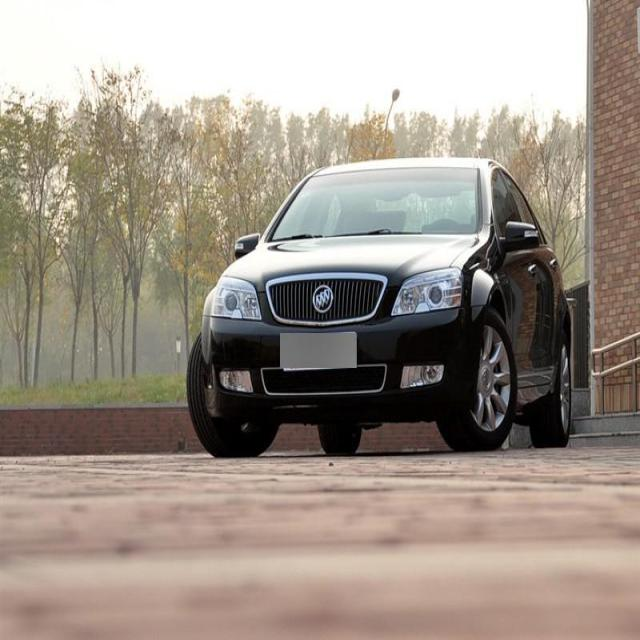front_bumper: (202, 312, 478, 408)
front_glass: (268, 170, 483, 236)
front_left_side_door: (491, 162, 542, 380)
front_left_side_light: (391, 266, 463, 316)
front_left_side_mirror: (500, 221, 539, 252)
front_right_side_light: (212, 274, 262, 322)
front_right_side_mirror: (232, 232, 261, 260)
wheel: (187, 331, 282, 458), (436, 313, 518, 450), (528, 335, 573, 449), (318, 426, 364, 456)
